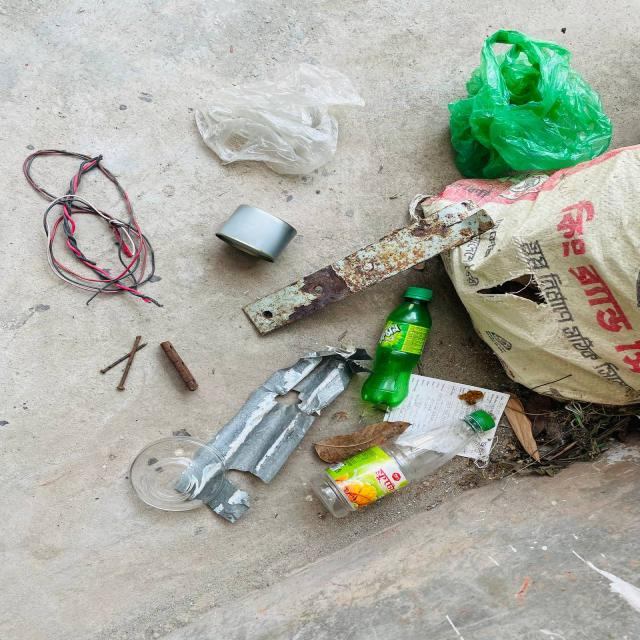Cable: (20, 142, 165, 314)
Glass: (115, 442, 233, 520)
Metal: (347, 202, 493, 266), (112, 331, 221, 414), (216, 212, 308, 256)
Plastics: (304, 285, 466, 519)
